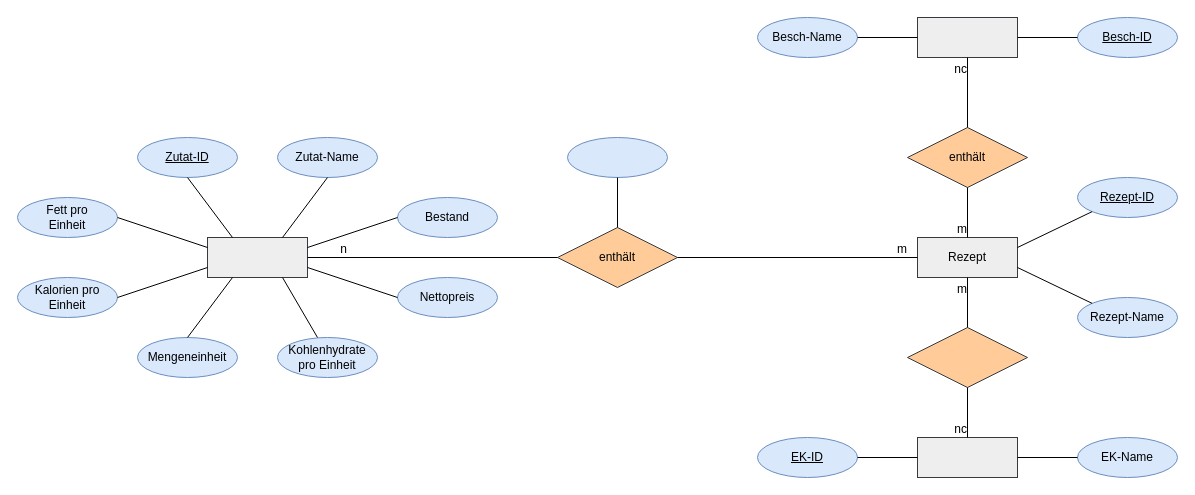
This 1195x495 diagram has some shape labels left out. Here are the shapes that lost their labels. From the top down, the box of each, then its label:
(916, 16, 1018, 58): Beschränkung
(566, 136, 668, 178): Menge
(206, 236, 308, 278): Zutat
(906, 326, 1028, 388): beschreibt
(916, 436, 1018, 478): Ernährungs Kategorien
